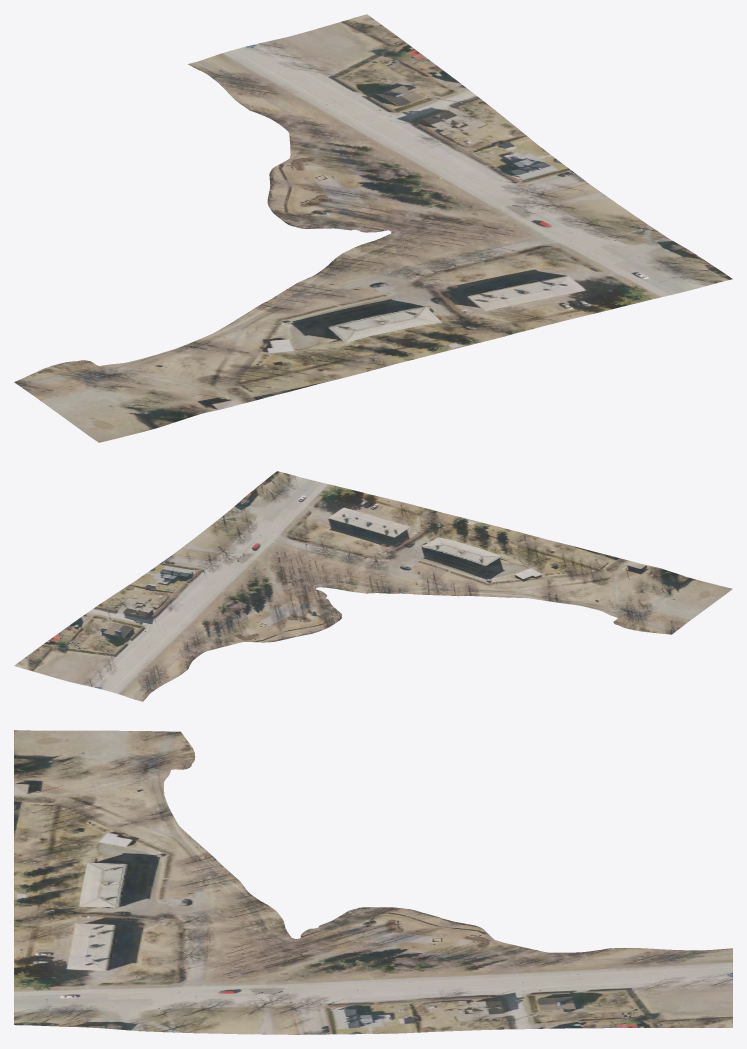
File: CM_Terrain_24488206_6819384.fbx
The picture shows the model from 3 angles, top to bottom: view 1: azimuth 30°, elevation 25°; view 2: azimuth 150°, elevation 25°; view 3: azimuth 270°, elevation 25°; orthographic projection. The views are drawn at different scales.
Parts seen in each view (by area): view 1: CM_Terrain_24488206_6819384_LOD0; view 2: CM_Terrain_24488206_6819384_LOD0; view 3: CM_Terrain_24488206_6819384_LOD0.
Part boxes in pixels (<box>): CM_Terrain_24488206_6819384_LOD0: <box>14,14,732,442</box>; CM_Terrain_24488206_6819384_LOD0: <box>14,471,732,701</box>; CM_Terrain_24488206_6819384_LOD0: <box>14,730,732,1034</box>.
Size of what is drawn, in the model's own units: 205 by 3.44 by 205.
